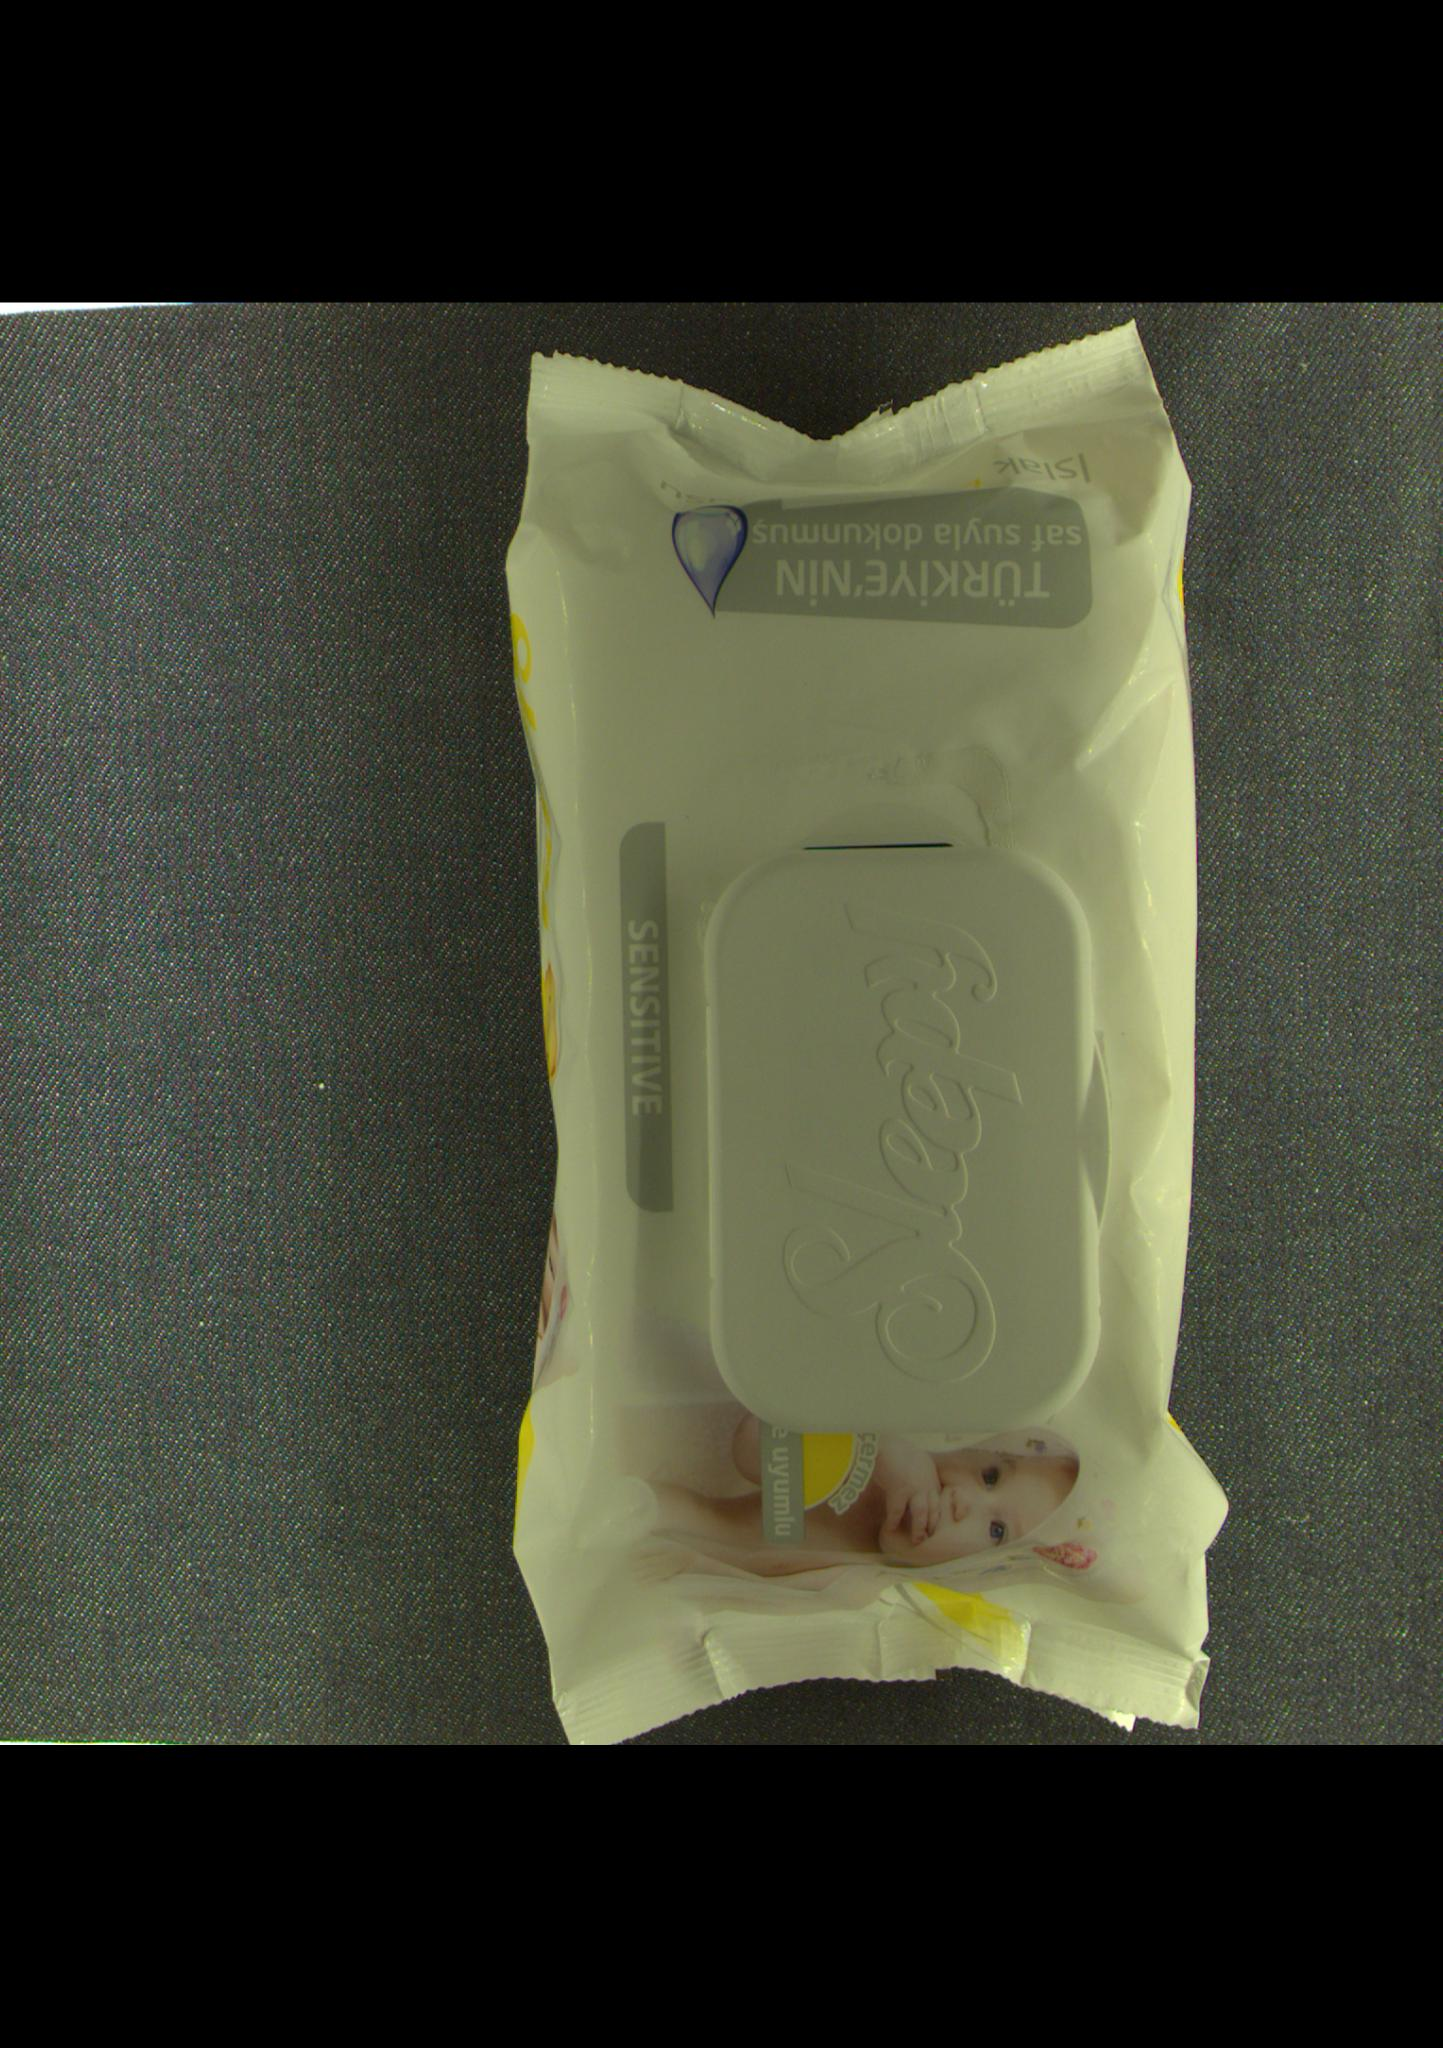kapak: (709, 843, 1117, 1433)
